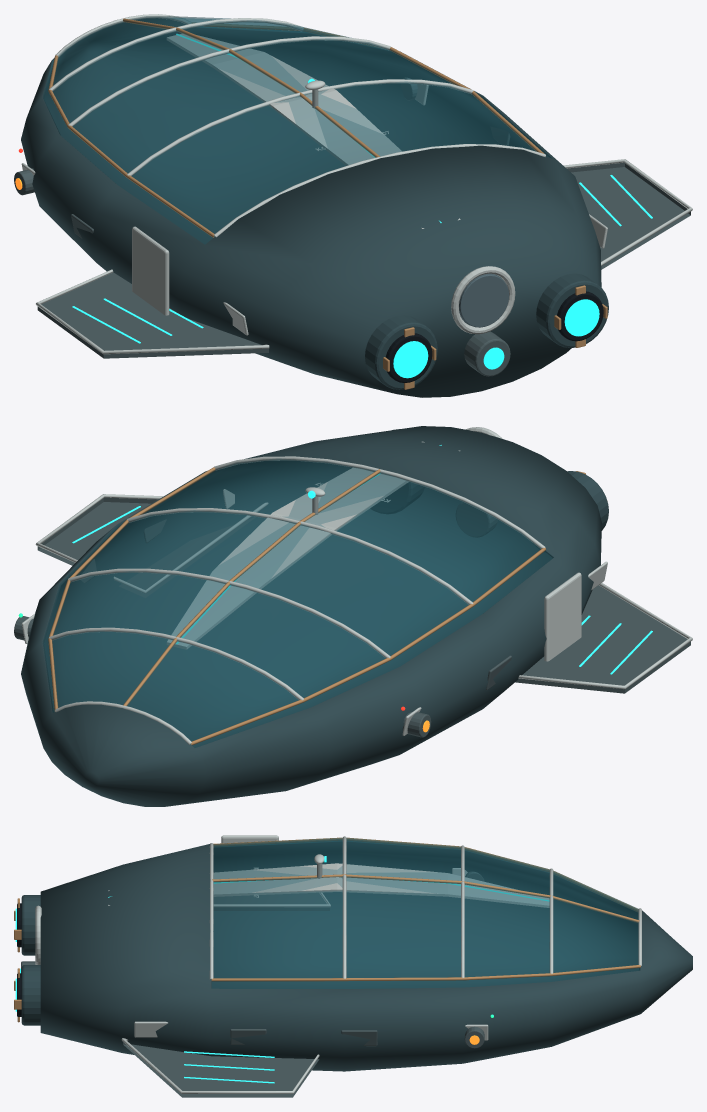
Rendered from kofte-explorer-v7-exterior.glb.
3 renders of one model, top to bottom at view 1: azimuth 30°, elevation 25°; view 2: azimuth 150°, elevation 25°; view 3: azimuth 270°, elevation 25°, orthographic. The views are drawn at different scales.
Visible parts, largest first — view 1: KEX_EXPORT_EXT_V7GraphiteHull.001, KEX_EXPORT_EXT_V7CanopyGlass.001, KEX_EXPORT_EXT_V7WhiteArmor.001, KEX_EXPORT_EXT_V7BellyArmor.001, KEX_EXPORT_EXT_BronzeHardware.001, KEX_EXPORT_EXT_V7EngineEmission.001, KEX_EXPORT_EXT_Panel.001, KEX_EXPORT_EXT_Rubber.001, KEX_EXPORT_EXT_CyanEmission.001; view 2: KEX_EXPORT_EXT_V7GraphiteHull.001, KEX_EXPORT_EXT_V7CanopyGlass.001, KEX_EXPORT_EXT_V7WhiteArmor.001, KEX_EXPORT_EXT_V7BellyArmor.001, KEX_EXPORT_EXT_BronzeHardware.001, KEX_EXPORT_EXT_CyanEmission.001; view 3: KEX_EXPORT_EXT_V7GraphiteHull.001, KEX_EXPORT_EXT_V7CanopyGlass.001, KEX_EXPORT_EXT_V7WhiteArmor.001, KEX_EXPORT_EXT_V7BellyArmor.001, KEX_EXPORT_EXT_BronzeHardware.001, KEX_EXPORT_EXT_CyanEmission.001.
Part boxes in pixels (x1,y1,x2,y2): KEX_EXPORT_EXT_V7GraphiteHull.001: [21, 18, 608, 397]; KEX_EXPORT_EXT_V7CanopyGlass.001: [42, 16, 552, 244]; KEX_EXPORT_EXT_V7WhiteArmor.001: [21, 14, 692, 354]; KEX_EXPORT_EXT_V7BellyArmor.001: [14, 77, 690, 376]; KEX_EXPORT_EXT_BronzeHardware.001: [48, 18, 607, 389]; KEX_EXPORT_EXT_V7EngineEmission.001: [393, 299, 599, 378]; KEX_EXPORT_EXT_Panel.001: [459, 273, 509, 327]; KEX_EXPORT_EXT_Rubber.001: [385, 291, 603, 382]; KEX_EXPORT_EXT_CyanEmission.001: [72, 34, 652, 343]; KEX_EXPORT_EXT_V7GraphiteHull.001: [21, 426, 608, 806]; KEX_EXPORT_EXT_V7CanopyGlass.001: [42, 458, 553, 747]; KEX_EXPORT_EXT_V7WhiteArmor.001: [21, 427, 692, 744]; KEX_EXPORT_EXT_V7BellyArmor.001: [14, 497, 690, 737]; KEX_EXPORT_EXT_BronzeHardware.001: [48, 467, 585, 745]; KEX_EXPORT_EXT_CyanEmission.001: [72, 445, 652, 674]; KEX_EXPORT_EXT_V7GraphiteHull.001: [21, 841, 692, 1071]; KEX_EXPORT_EXT_V7CanopyGlass.001: [211, 837, 640, 988]; KEX_EXPORT_EXT_V7WhiteArmor.001: [35, 835, 641, 1093]; KEX_EXPORT_EXT_V7BellyArmor.001: [21, 868, 484, 1097]; KEX_EXPORT_EXT_BronzeHardware.001: [14, 837, 640, 1022]; KEX_EXPORT_EXT_CyanEmission.001: [108, 856, 549, 1083].
Size of the model in its own units: 38.59 by 13.25 by 45.95.
